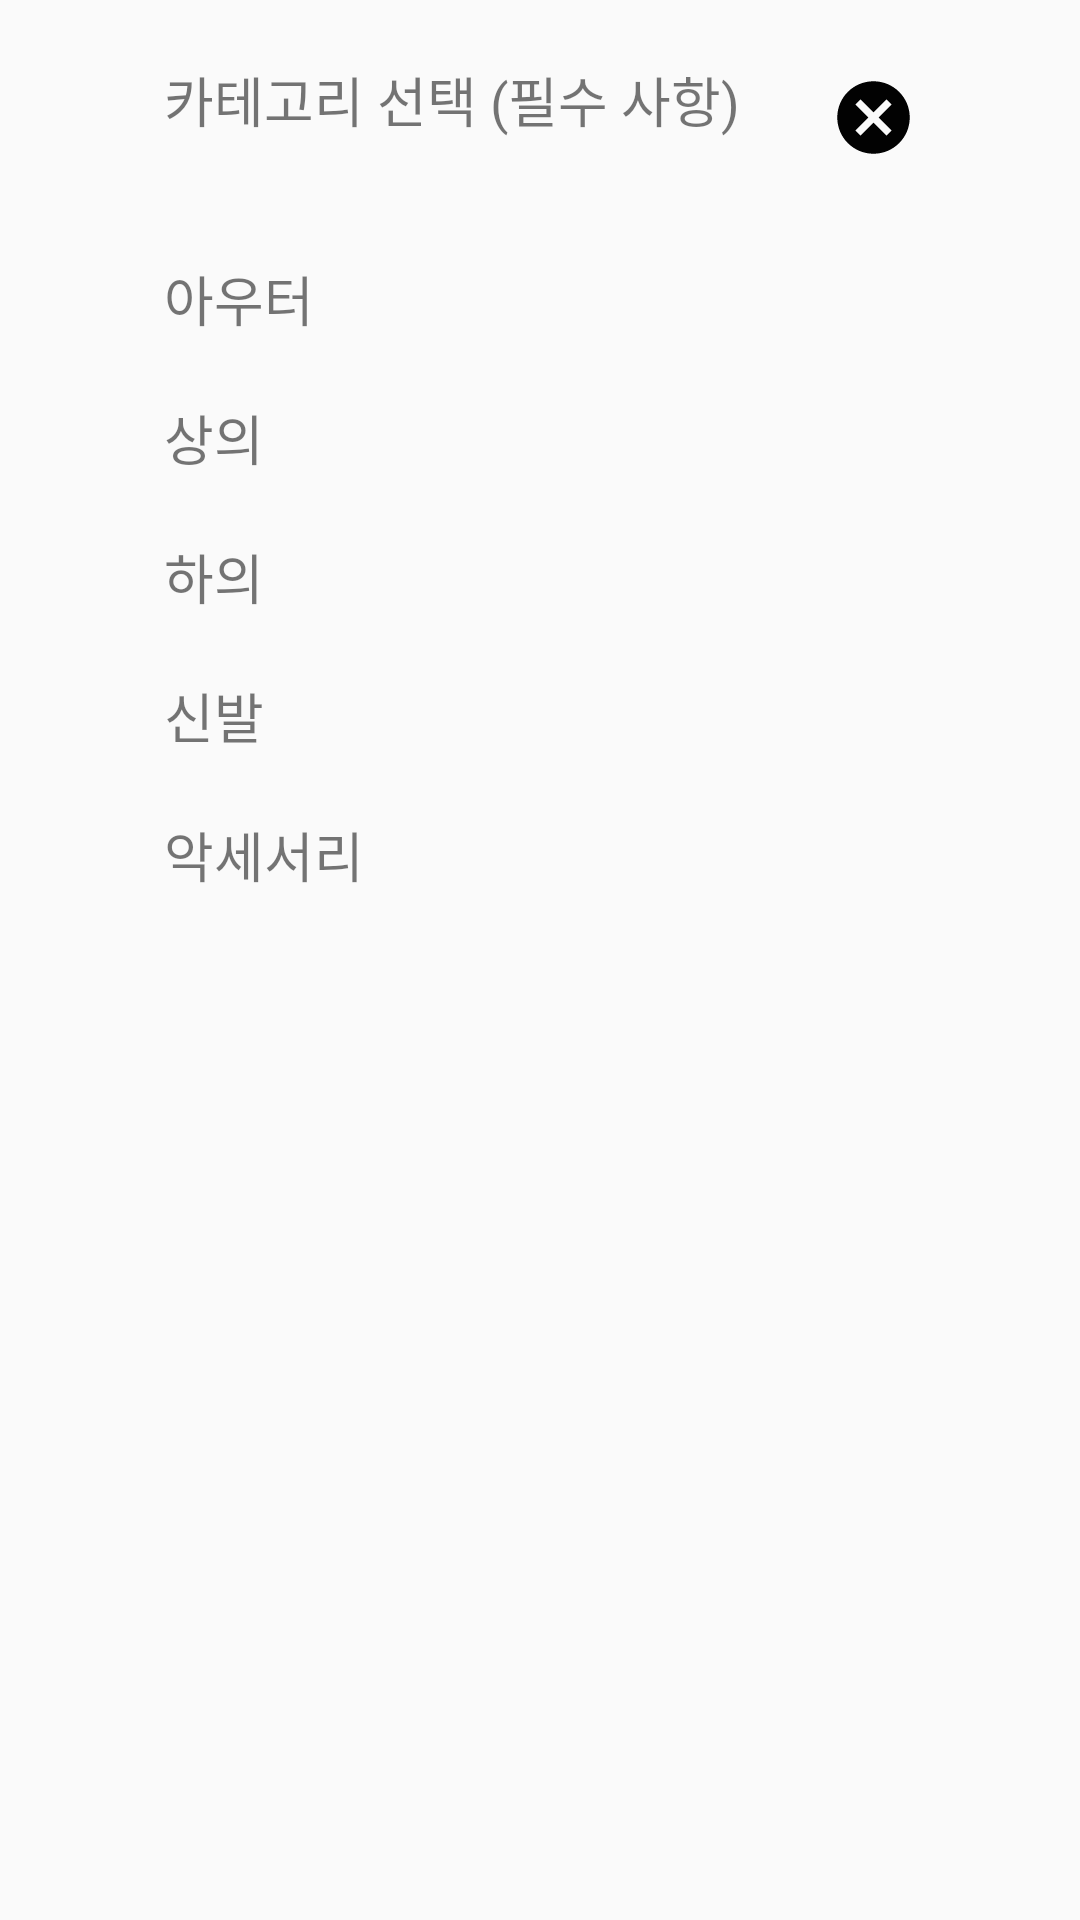

Screen size 1080w x 1920h. Icon name, then its box in pixels as (x1, y1, x2, y2):
cancel: (837, 81, 910, 154)
